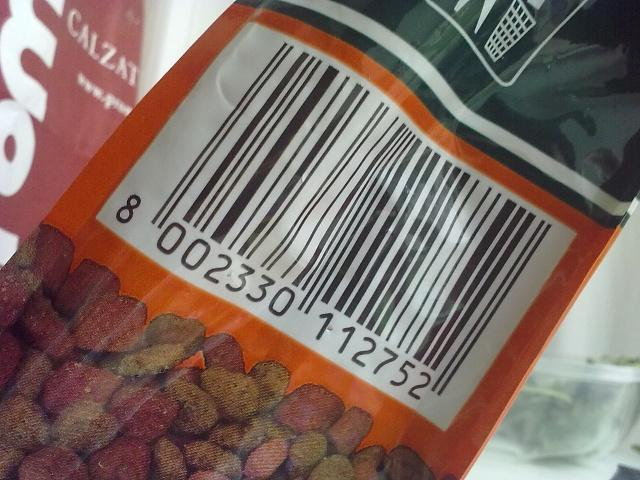Barcode: (110, 33, 556, 411)
